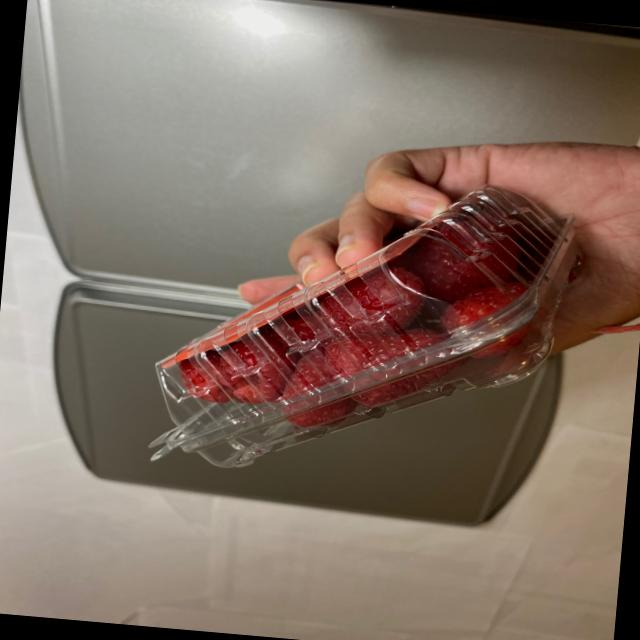raspberries: (165, 190, 554, 462)
